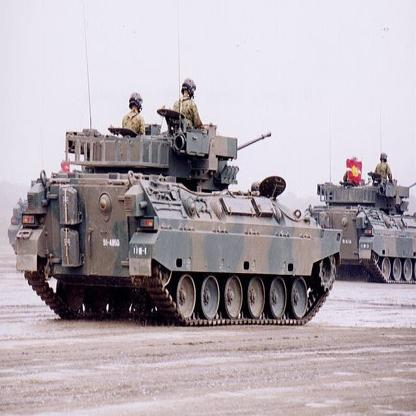Tank: (9, 78, 342, 347), (308, 154, 416, 295)
